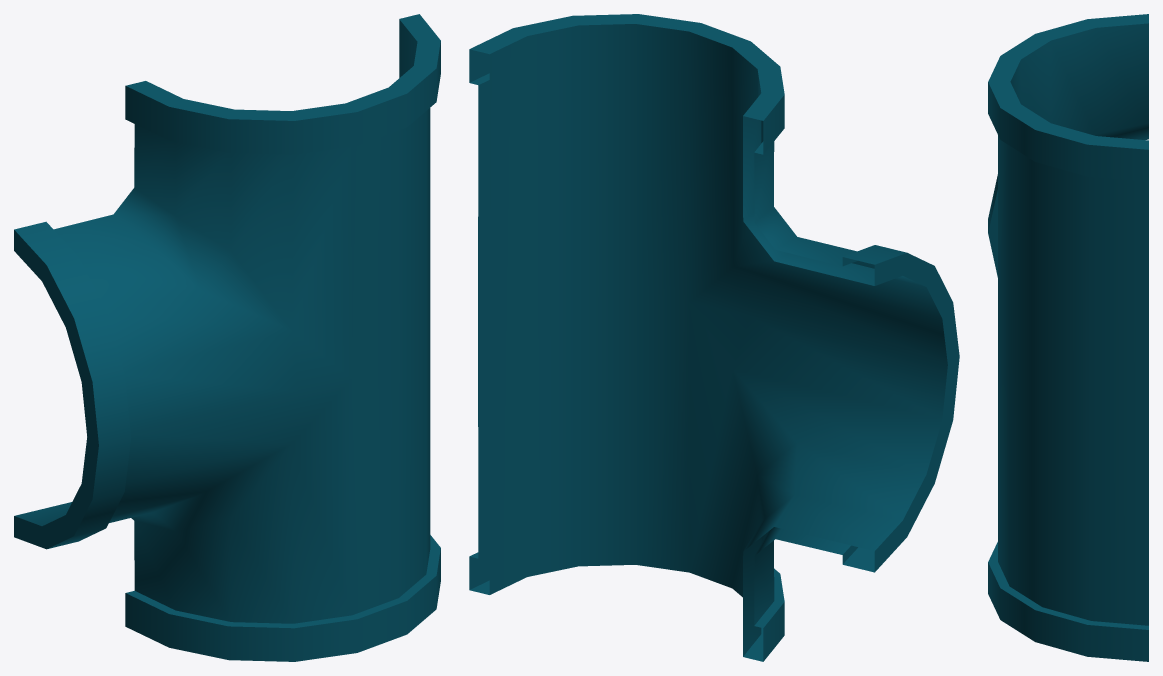
The model's file is Modulo4_T_Blockout_Cobertura.FBX.
3 renders of one model, left to right at view 1: azimuth 30°, elevation 25°; view 2: azimuth 150°, elevation 25°; view 3: azimuth 270°, elevation 25°, orthographic. The views are drawn at different scales.
Visible parts, largest first — view 1: Tubo_Modulo4_T_Covertura; view 2: Tubo_Modulo4_T_Covertura; view 3: Tubo_Modulo4_T_Covertura.
Part boxes in pixels (x1,y1,x2,y2): Tubo_Modulo4_T_Covertura: [14, 14, 440, 661]; Tubo_Modulo4_T_Covertura: [469, 14, 959, 661]; Tubo_Modulo4_T_Covertura: [988, 14, 1148, 661].
Size of the model in its own units: 142 by 181 by 51.47.
